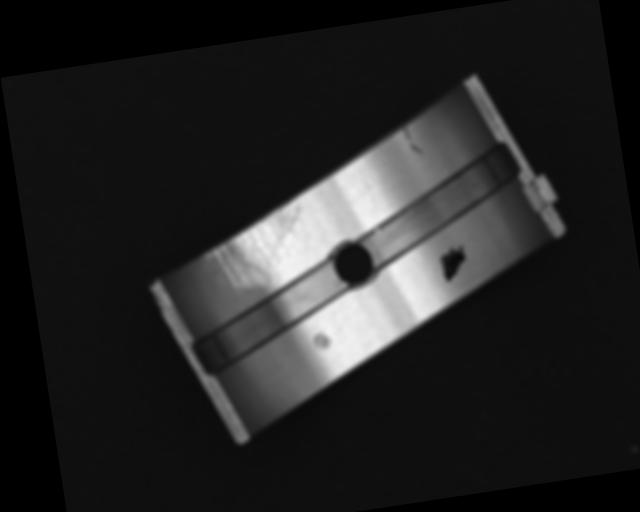blot: (436, 241, 470, 283)
bruise: (311, 329, 332, 351)
gap: (351, 144, 532, 272), (182, 258, 359, 378)
hole: (329, 234, 380, 291)
nick: (357, 167, 376, 206), (402, 121, 423, 156)
scratch: (194, 196, 315, 296)
